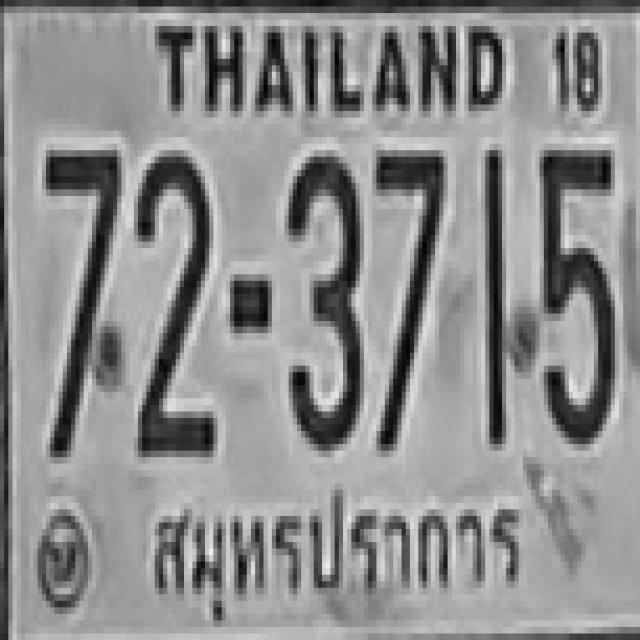1: (481, 144, 506, 444)
2: (132, 147, 211, 447)
3: (284, 150, 360, 444)
5: (535, 144, 611, 438)
7: (42, 144, 117, 450), (372, 147, 443, 447), (42, 144, 117, 352)
SamutPrakan: (142, 469, 536, 640)
